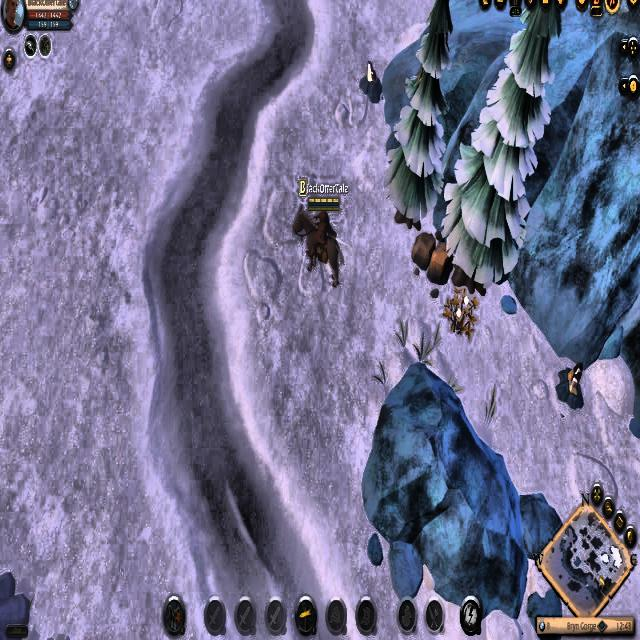copperore: (553, 354, 589, 416), (358, 58, 383, 104)
limestone: (412, 227, 453, 280)
